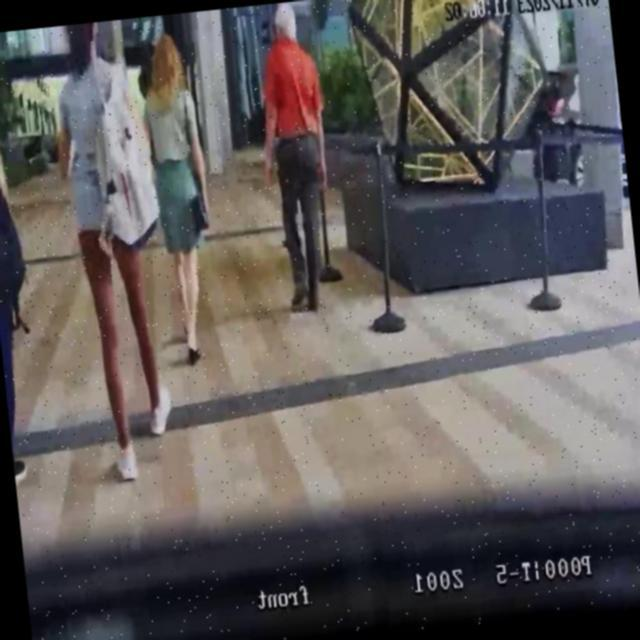person: (44, 18, 184, 486), (133, 29, 226, 367), (247, 0, 346, 315), (0, 87, 48, 485)
